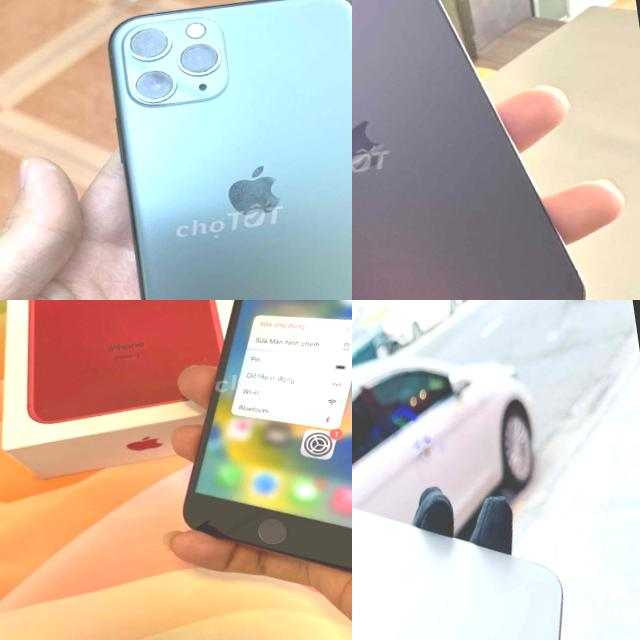gen_11: (80, 0, 352, 300)
gen_12_13: (352, 444, 591, 640)
gen_14: (352, 0, 599, 300)
gen_7_8: (132, 300, 352, 583)
